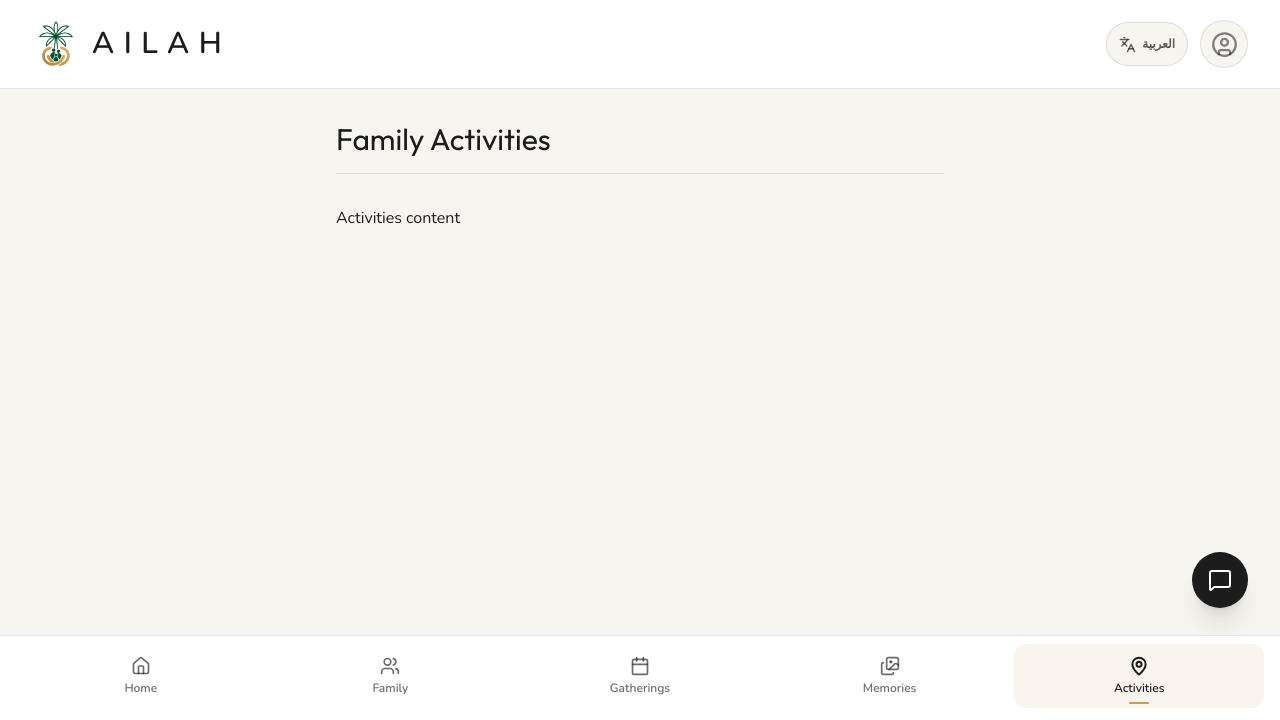
Scenario: Layout mobile shell › supports keyboard dismissal, restores focus, and exposes 44px-or-larger controls
The image size is (1280, 720).
Expected: the element with class "app-shell-brand" is shown, [32,20,231,68]
Step 1. Click the button named "Open account menu" → x=1224, y=44, box [1200,20,1248,68]
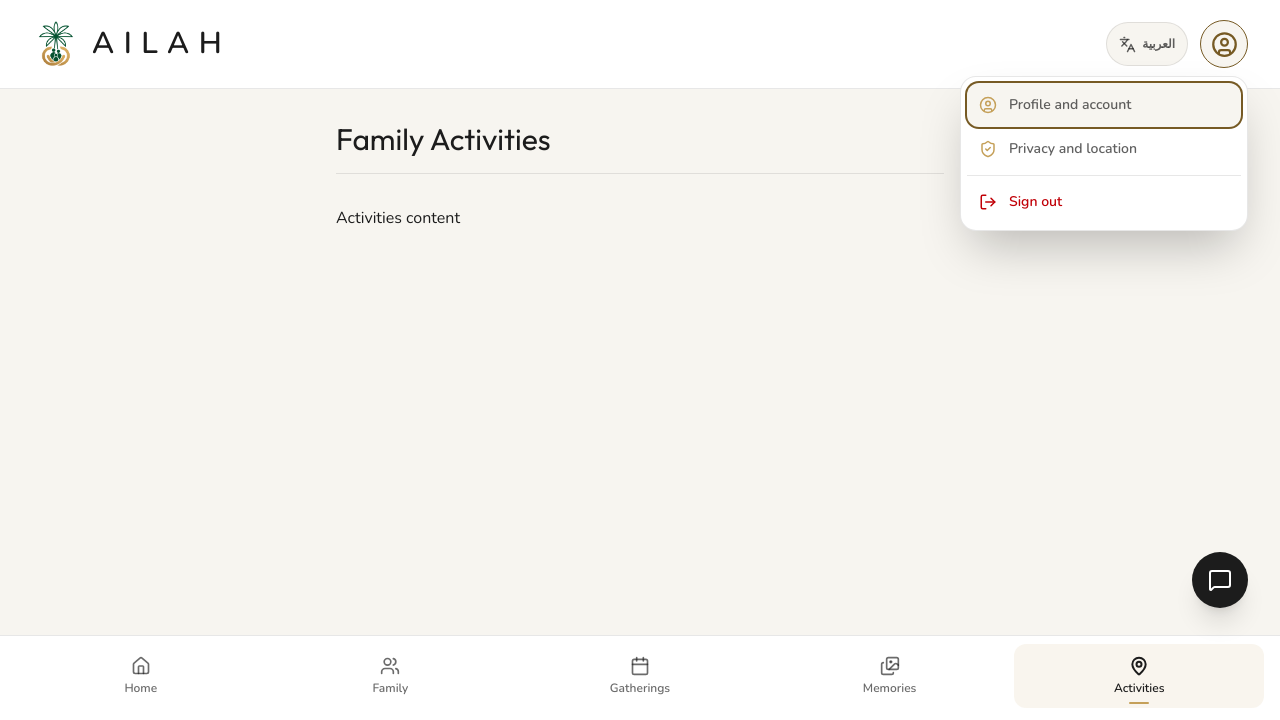
Now the button named "Open account menu" is expanded, box [1200,20,1248,68]
Step 2. Press Escape
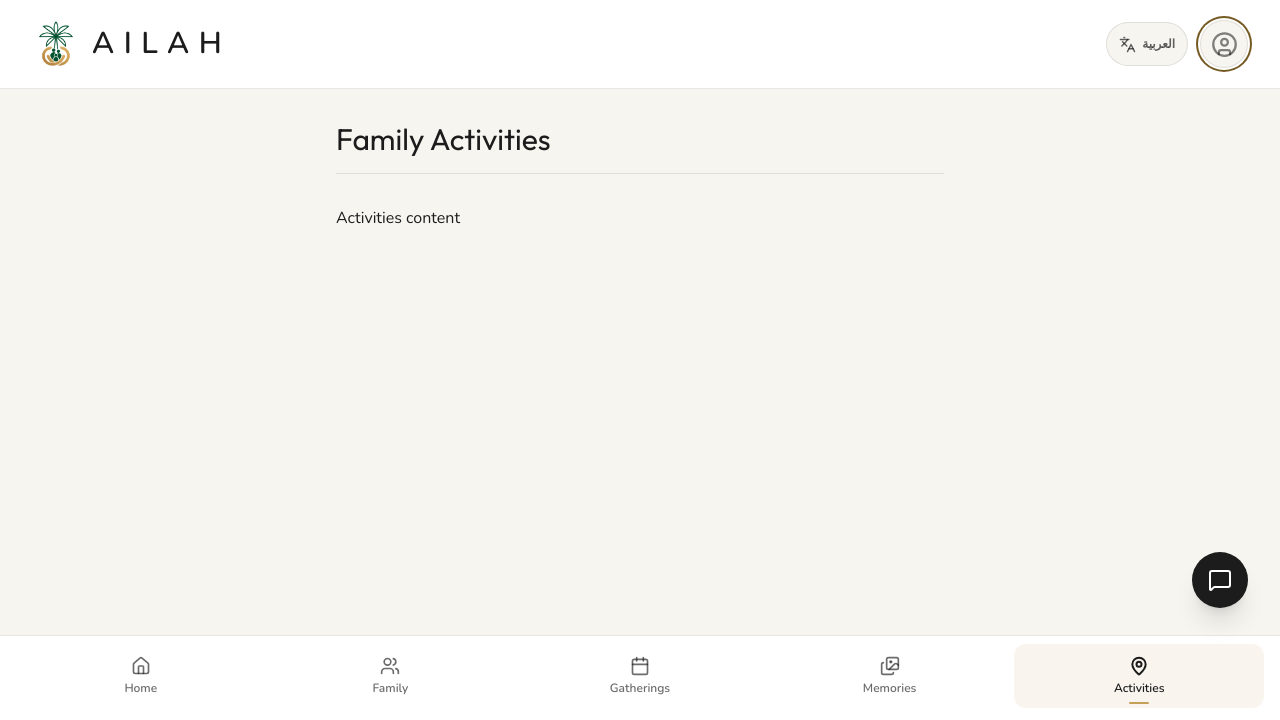
Now the menu is gone
